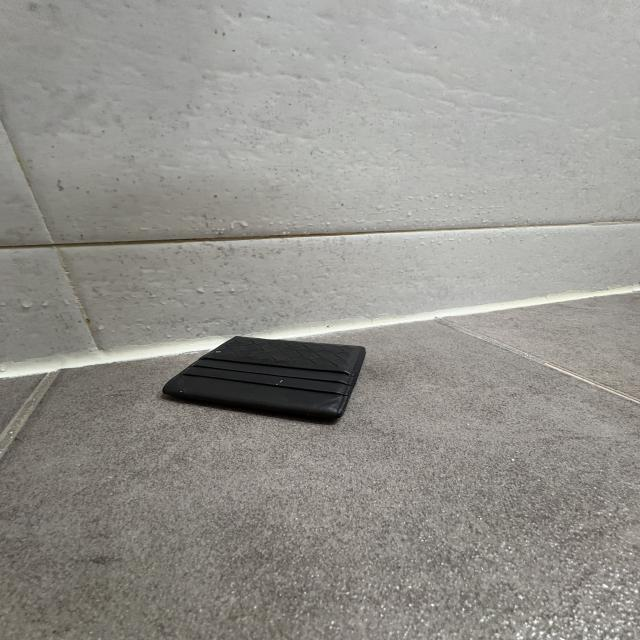wallet: (159, 334, 367, 426)
